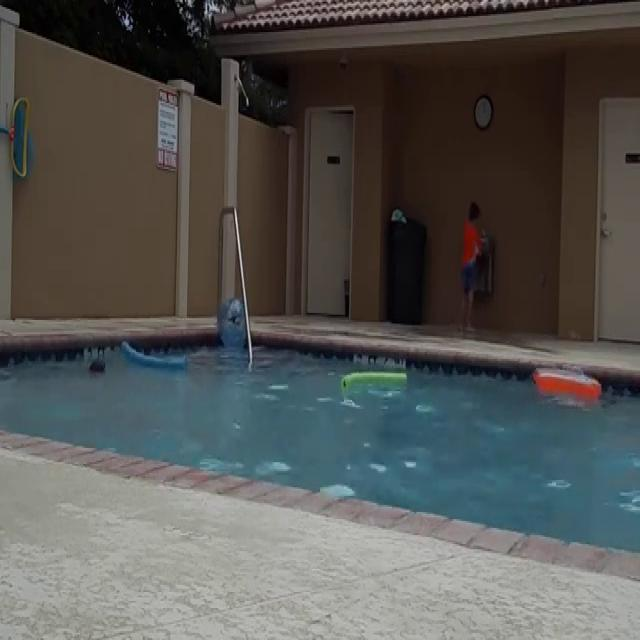child: (457, 197, 486, 334), (88, 354, 107, 380)
